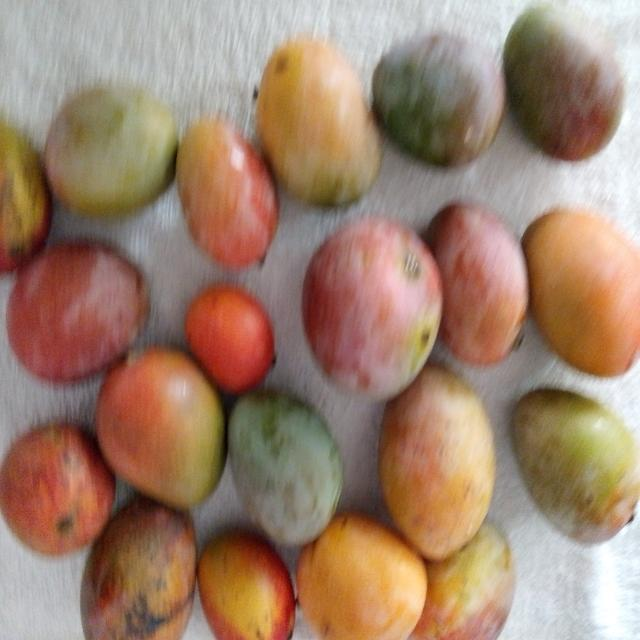mango: (298, 207, 438, 403), (251, 38, 387, 207), (511, 386, 640, 548), (295, 516, 431, 640), (432, 202, 530, 365), (181, 116, 276, 283)
